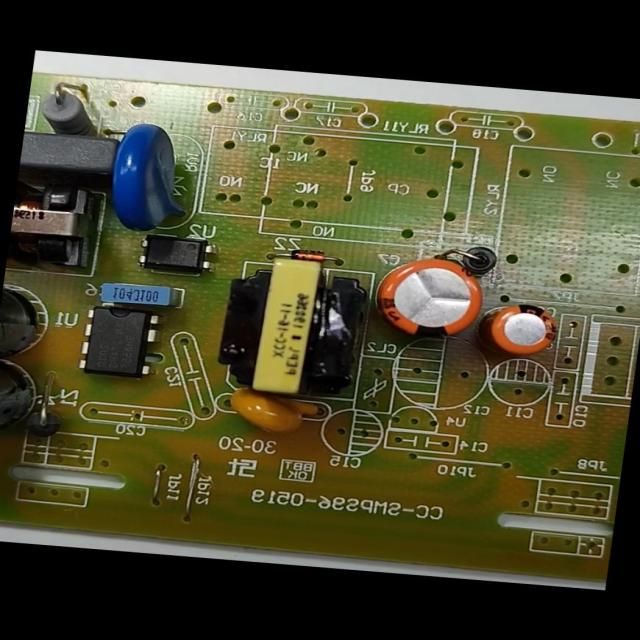Cap1: (369, 250, 488, 348)
Cap2: (480, 300, 565, 363)
MOSFET: (70, 296, 166, 389)
Mov: (96, 120, 188, 237)
Resistor: (24, 69, 97, 138)
Transformer: (207, 243, 370, 407), (5, 167, 103, 278)
